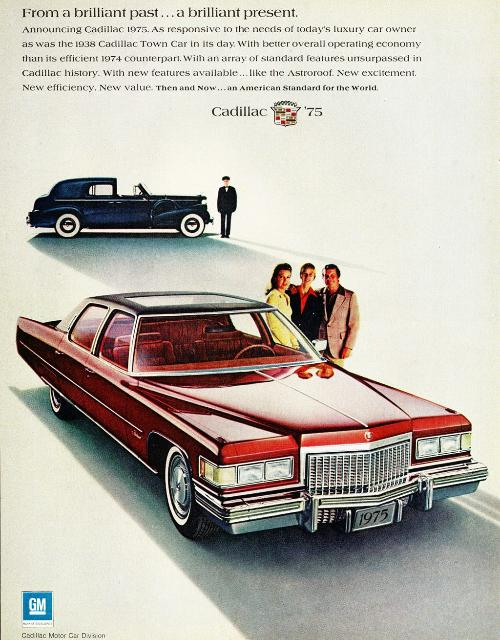cadillac: (15, 290, 490, 540), (25, 176, 214, 240)
